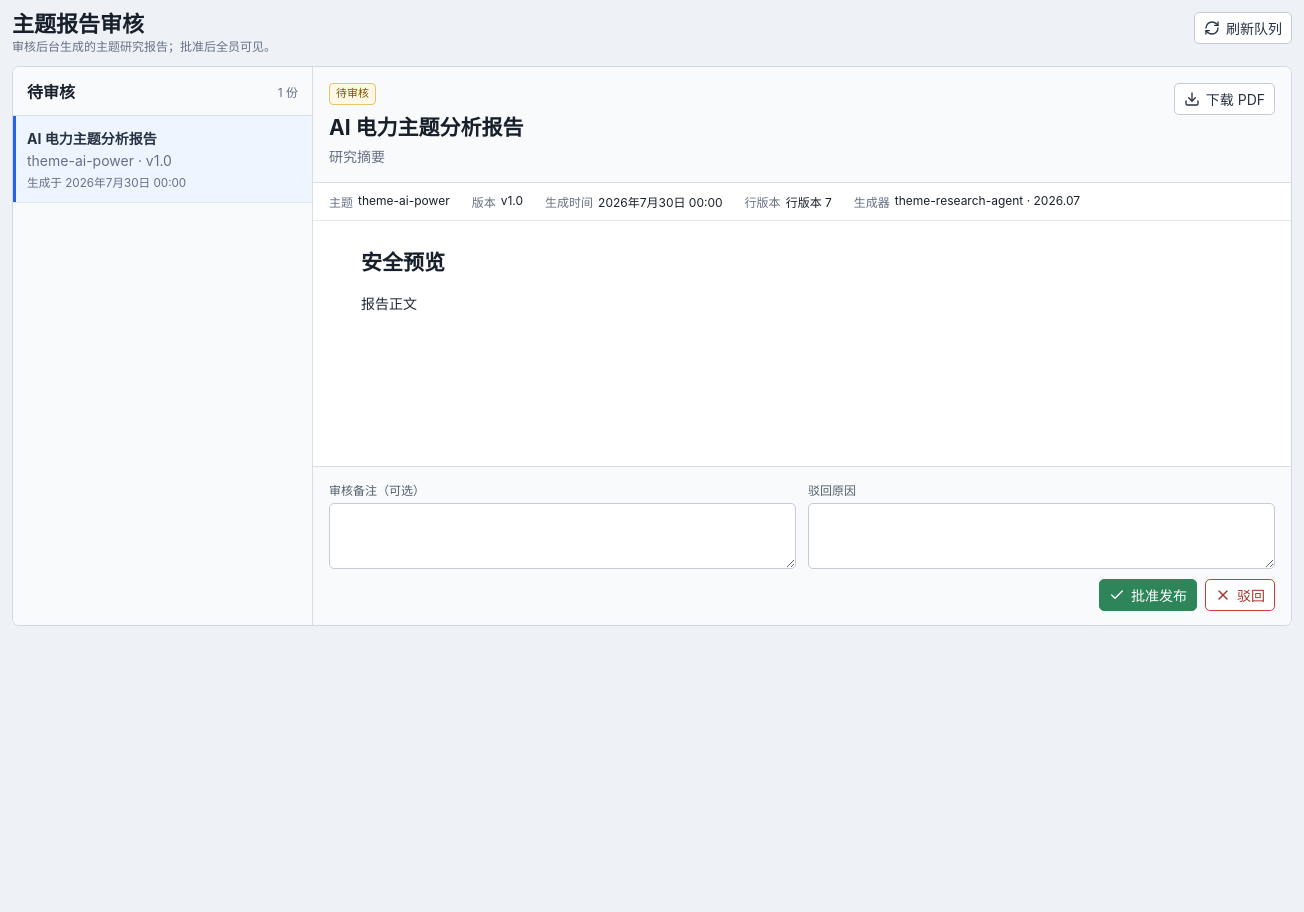
Test: ThemeResearchReportReviewWorkspace › reports a 409 conflict exactly and refreshes the queue and selected preview
Check: the heading "安全预览" is shown, box [361,250,445,275]
Click the button "批准发布": (1148, 595) [1099,579,1197,611]
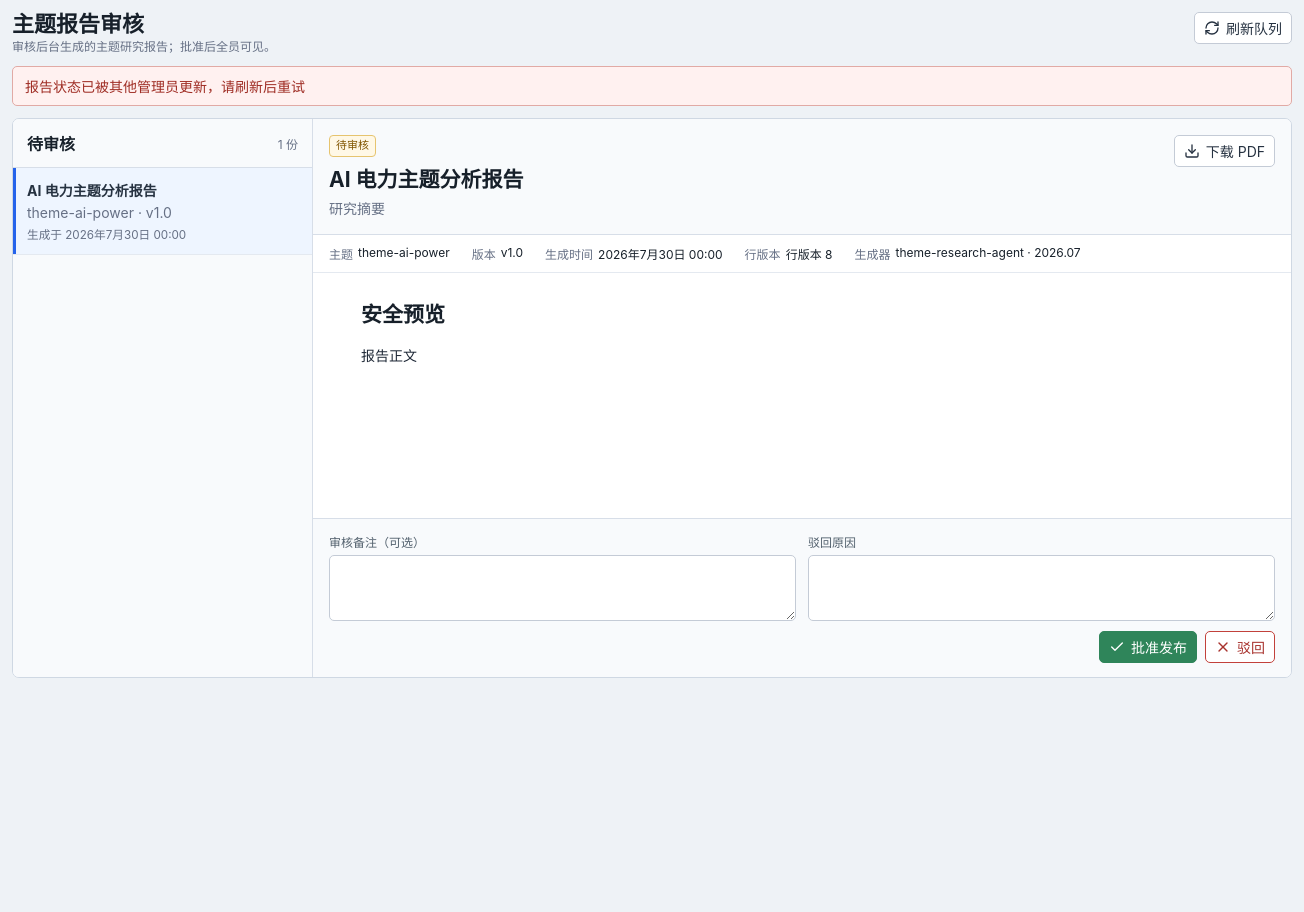
Check: the message reads "报告状态已被其他管理员更新，请刷新后重试", box [25,78,305,95]
Check: the text "行版本 8" is shown, box [786,245,832,262]
